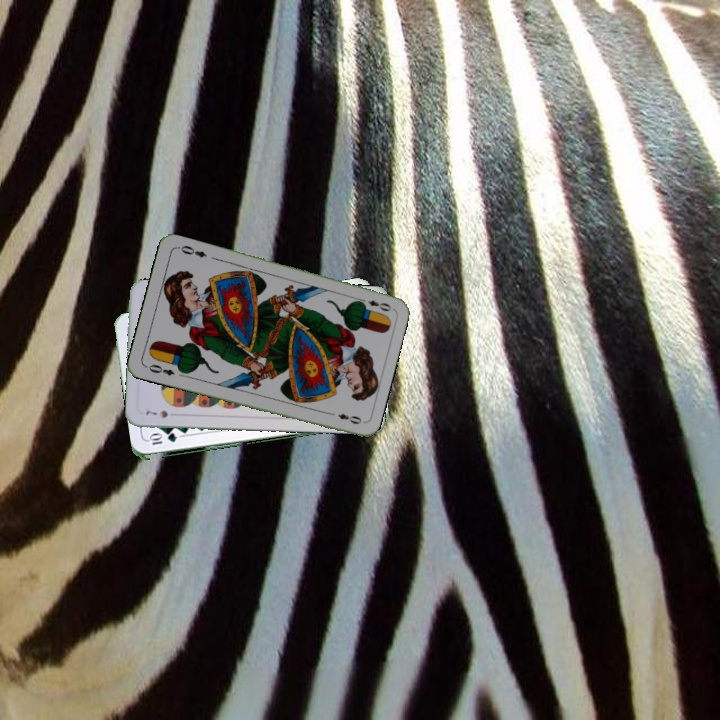EO: (354, 294, 394, 314), (142, 360, 177, 379)
G10: (145, 431, 179, 447)
S7: (142, 406, 170, 421)
